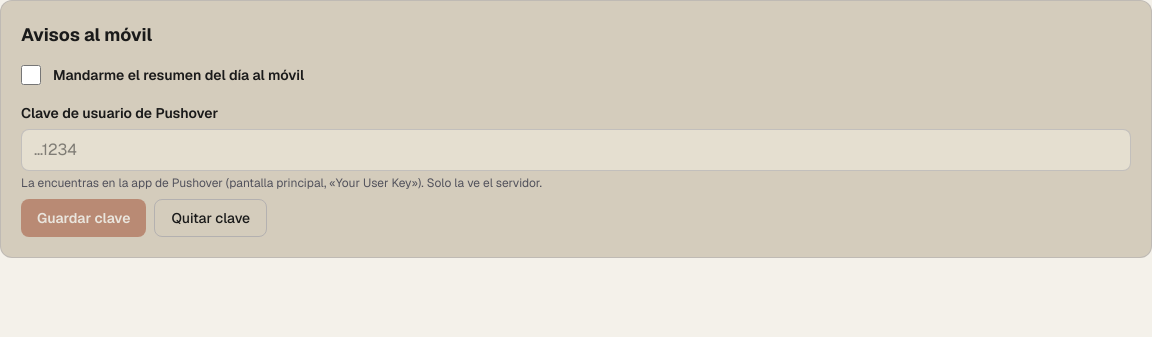
Test: Avisos al móvil › los dos GET (carga y recarga) llevan ?business_id y el PATCH el mismo negocio
Click the switch. click: [31, 75]
box: [21, 65, 41, 85]
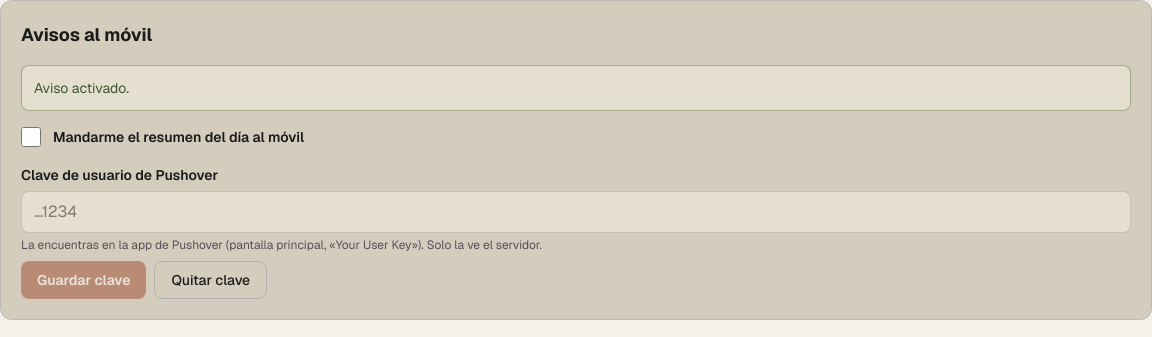
Expected: the text "Aviso activado." is shown, [21, 65, 1131, 111]
